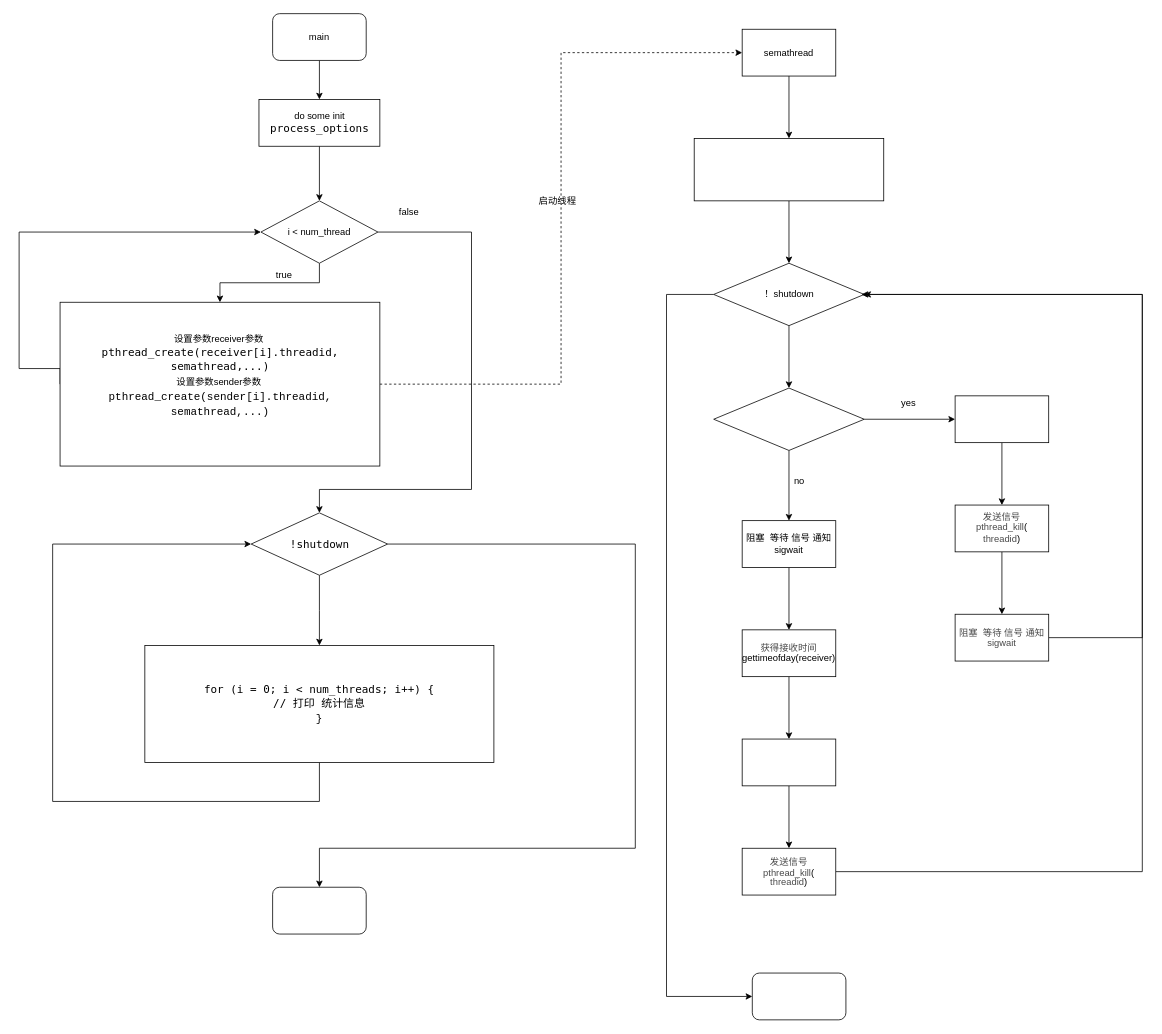
Image size: 1162x1034. Some labels were removed from this diagram. The shapes that lost their labels are listed below. From the top down, each one's centre as x and y in pixels, then its label:
At pixel 788 169: "参数设置".
At pixel 788 418: "sender?".
At pixel 1001 419: "获取unblocked时间 gettimeofday(unlock)".
At pixel 788 762: "计算 diff 更新 统计信息".
At pixel 319 910: "Done".
At pixel 799 996: "结束".
